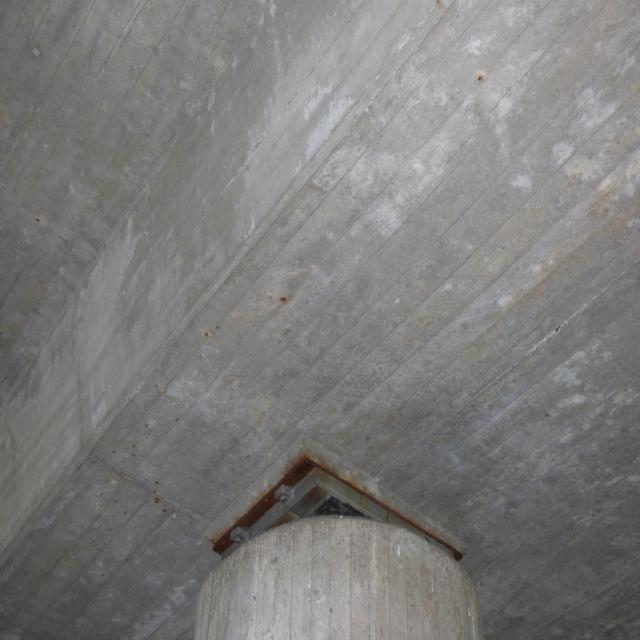corrosion: (197, 440, 475, 572), (94, 376, 180, 528), (267, 278, 292, 328), (197, 314, 230, 346), (472, 66, 486, 85)
